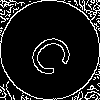C: (25, 25, 84, 81)
